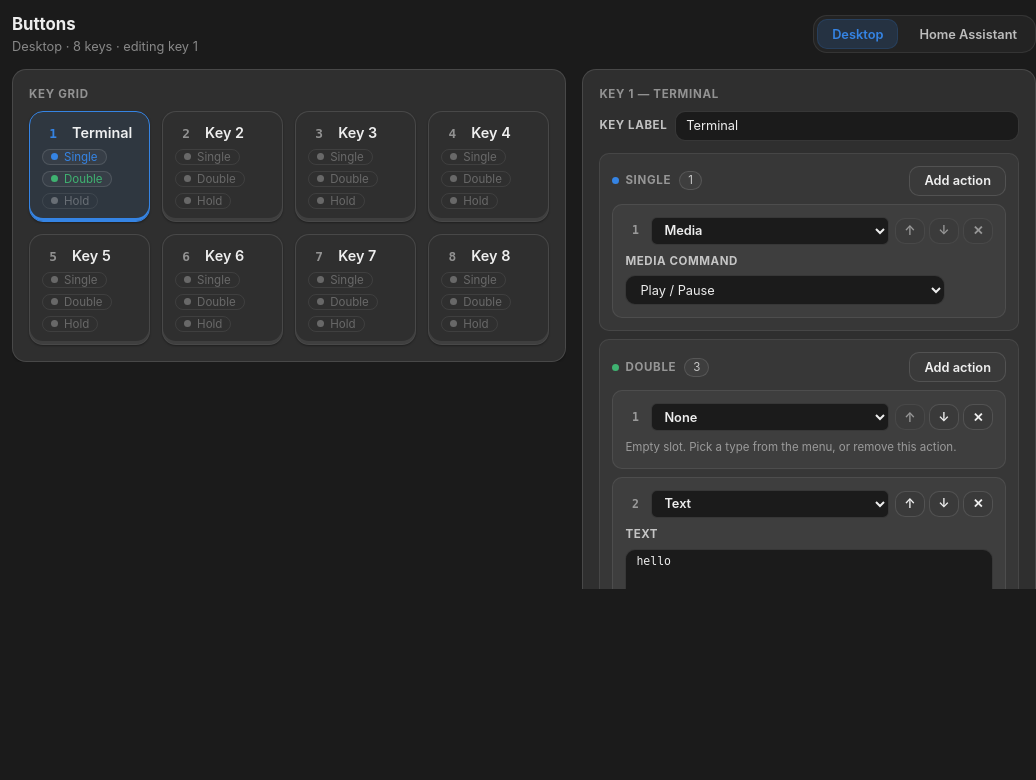
Test: label editor › sends the new label through the page command queue and shows what the core stored
Replace the text in the field with test id "action-label" with "Shell": (847, 126) [675,111,1019,141]
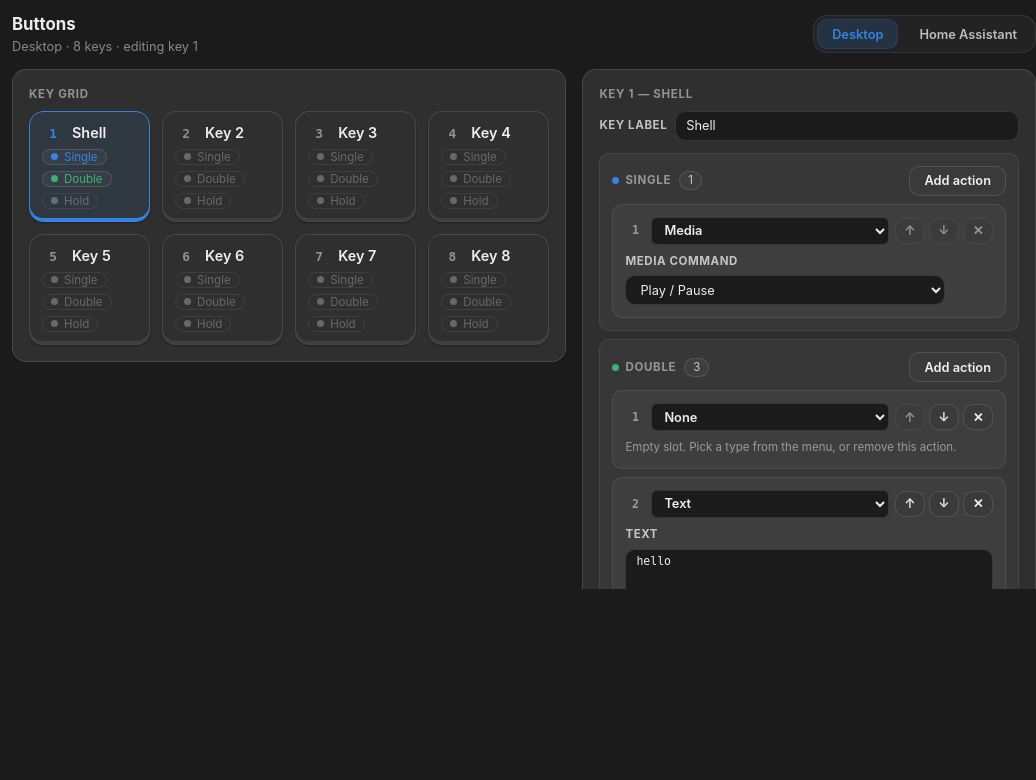
expect the text "Shell" is shown: met, box [72,124,106,141]
expect the button with aria-label "Key 1: Shell" is shown: met, box [29,111,150,222]
